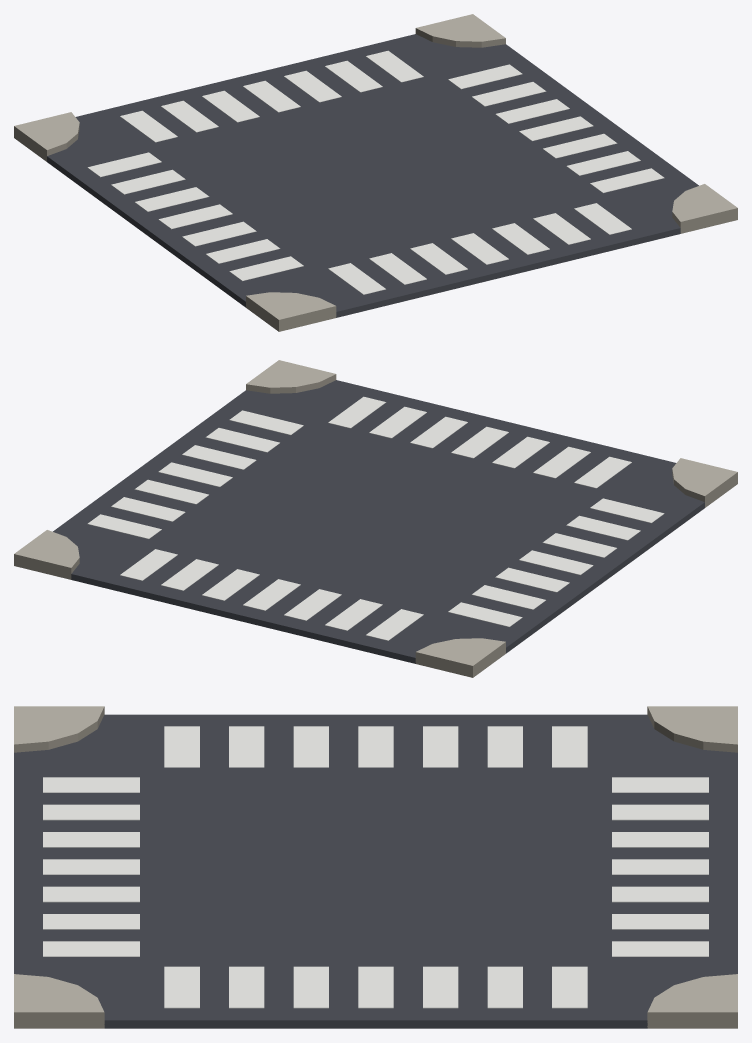
The model's file is Road_Intersection.glb.
The picture shows the model from 3 angles, top to bottom: view 1: azimuth 30°, elevation 25°; view 2: azimuth 150°, elevation 25°; view 3: azimuth 270°, elevation 25°; orthographic projection. The views are drawn at different scales.
Visible parts, largest first — view 1: Road_Intersection_Asphalt, Road_Intersection_Sidewalk; view 2: Road_Intersection_Asphalt, Road_Intersection_Sidewalk; view 3: Road_Intersection_Asphalt, Road_Intersection_Sidewalk.
Part boxes in pixels (bbox=[...]): Road_Intersection_Asphalt: bbox=[47, 34, 698, 317]; Road_Intersection_Sidewalk: bbox=[14, 14, 737, 331]; Road_Intersection_Asphalt: bbox=[53, 380, 704, 663]; Road_Intersection_Sidewalk: bbox=[14, 360, 737, 677]; Road_Intersection_Asphalt: bbox=[14, 714, 737, 1028]; Road_Intersection_Sidewalk: bbox=[14, 706, 737, 1028].
Size of the model in its own units: 11.2 by 0.28 by 11.2.
Materials: 1 (1 with a texture image).
